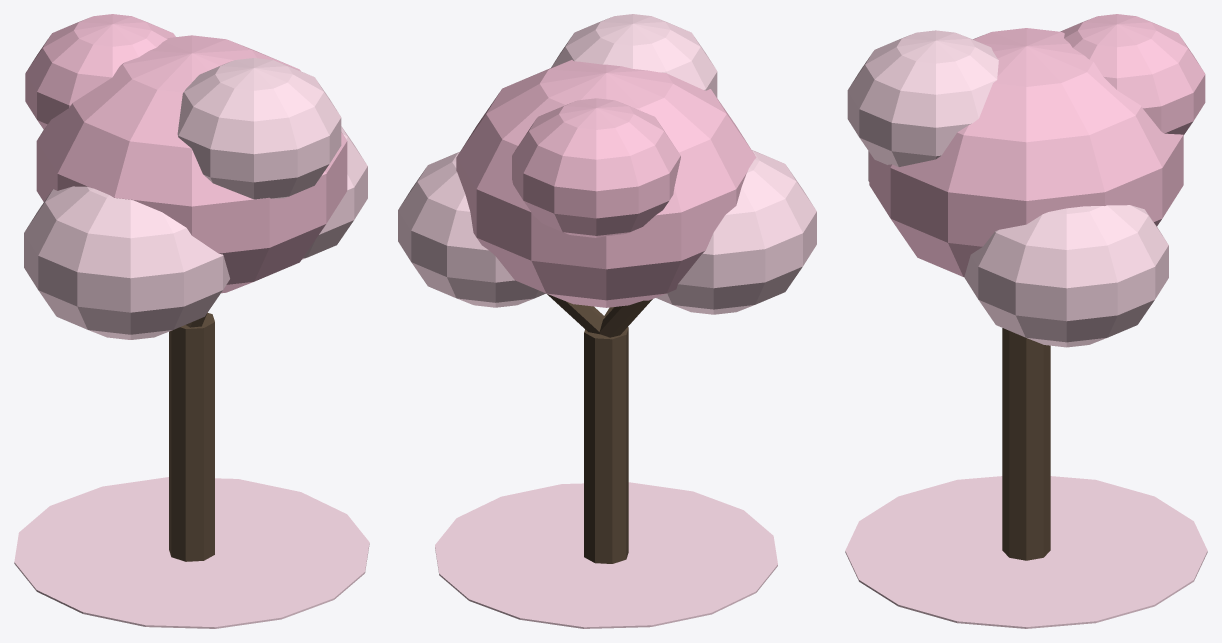
Rendered from tree_blossom.glb.
3 views of the same model, side by side, from view 1: azimuth 30°, elevation 25°; view 2: azimuth 150°, elevation 25°; view 3: azimuth 270°, elevation 25° (orthographic). The views are drawn at different scales.
Visible parts, largest first — view 1: tree_blossom; view 2: tree_blossom; view 3: tree_blossom.
Boxes of the visible parts, bbox=[...] form: tree_blossom: bbox=[14, 14, 369, 628]; tree_blossom: bbox=[398, 14, 816, 628]; tree_blossom: bbox=[845, 14, 1207, 628].
Size of the model in its own units: 2.09 by 2.85 by 1.8.
